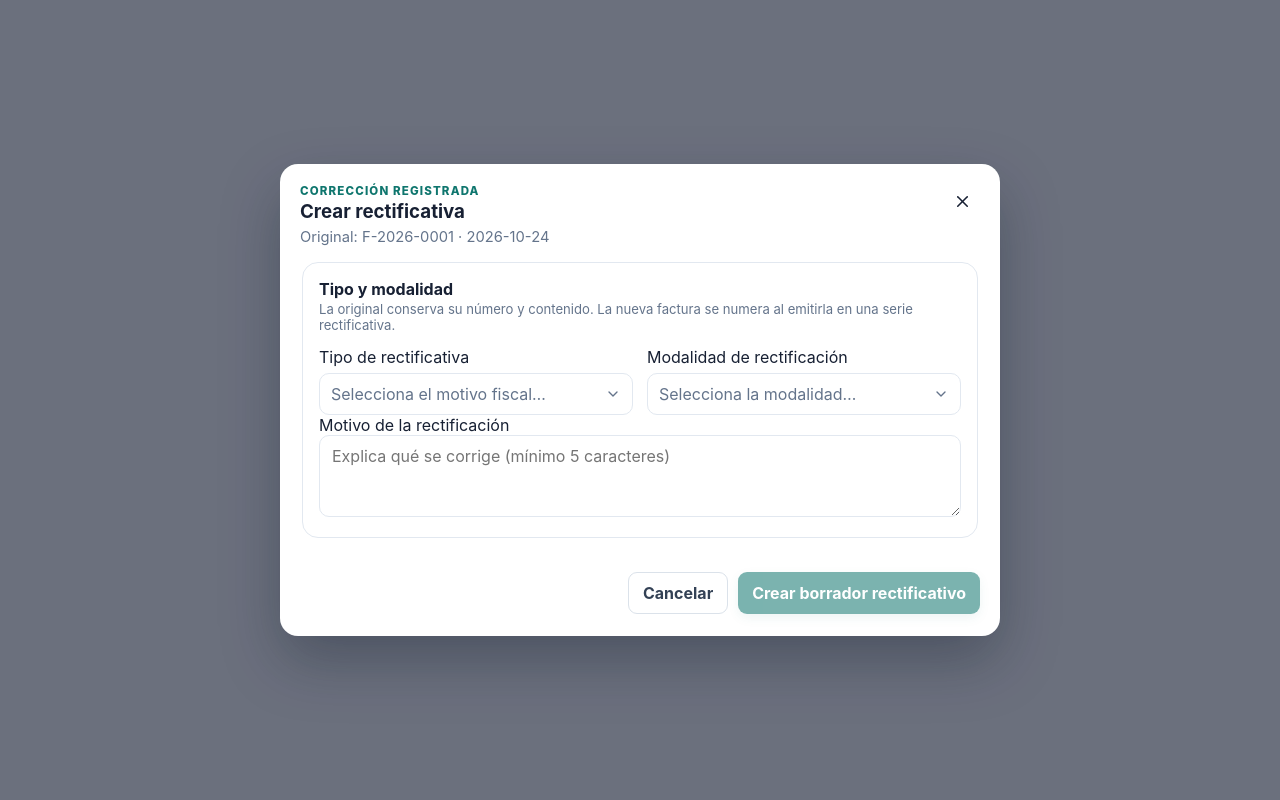
Test: shows only R5 for a simplified original, with no default fiscal classification
The image size is (1280, 800).
Click the dropdown named "Tipo de rectificativa".
click(476, 394)  # box x1=319 y1=373 x2=633 y2=415
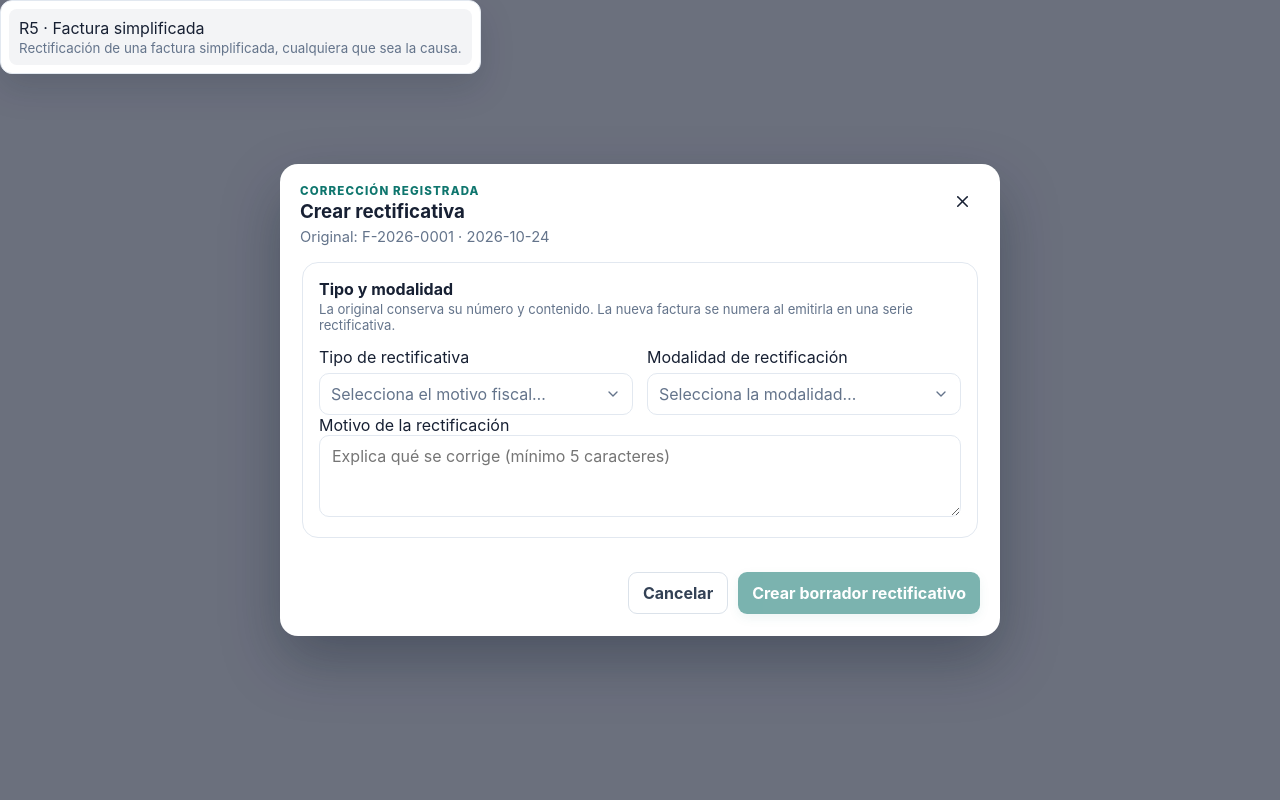
expect the option "R5" is shown: met, box x1=9 y1=9 x2=472 y2=65
